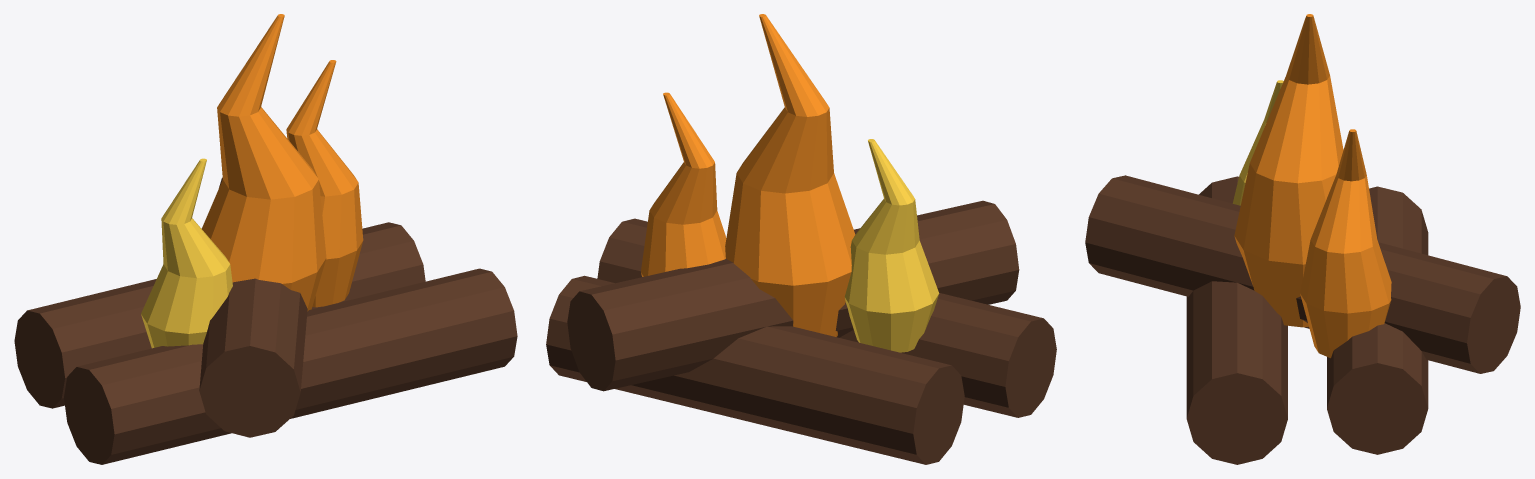
Rendered from NEW_RECOVERY_080_LOD0.fbx.
3 renders of one model, left to right at view 1: azimuth 30°, elevation 25°; view 2: azimuth 150°, elevation 25°; view 3: azimuth 270°, elevation 25°, orthographic.
Parts seen in each view (by area): view 1: Campfire_whole_static_prop; view 2: Campfire_whole_static_prop; view 3: Campfire_whole_static_prop.
Part boxes in pixels (x1=…): Campfire_whole_static_prop: x1=14, y1=14, x2=517, y2=464; Campfire_whole_static_prop: x1=546, y1=14, x2=1056, y2=464; Campfire_whole_static_prop: x1=1085, y1=14, x2=1520, y2=464.
Size of the model in its own units: 156 by 146 by 135.
